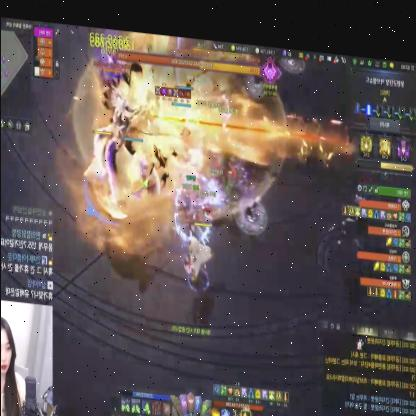streamer: (0, 314, 25, 416)
